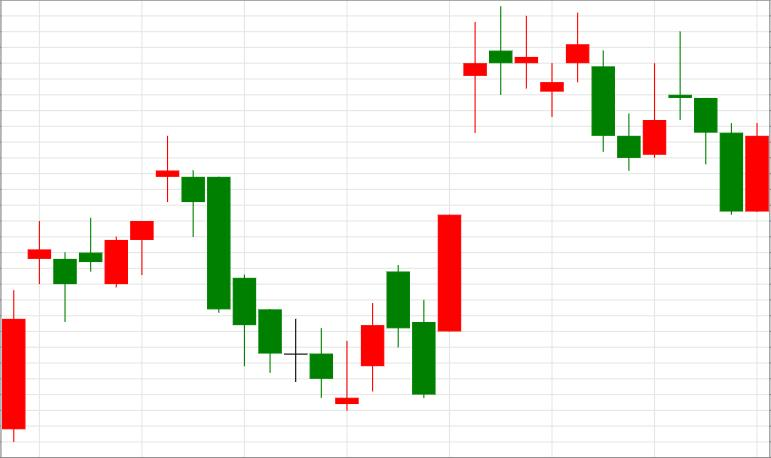morning_star_rise: (156, 137, 383, 411)
